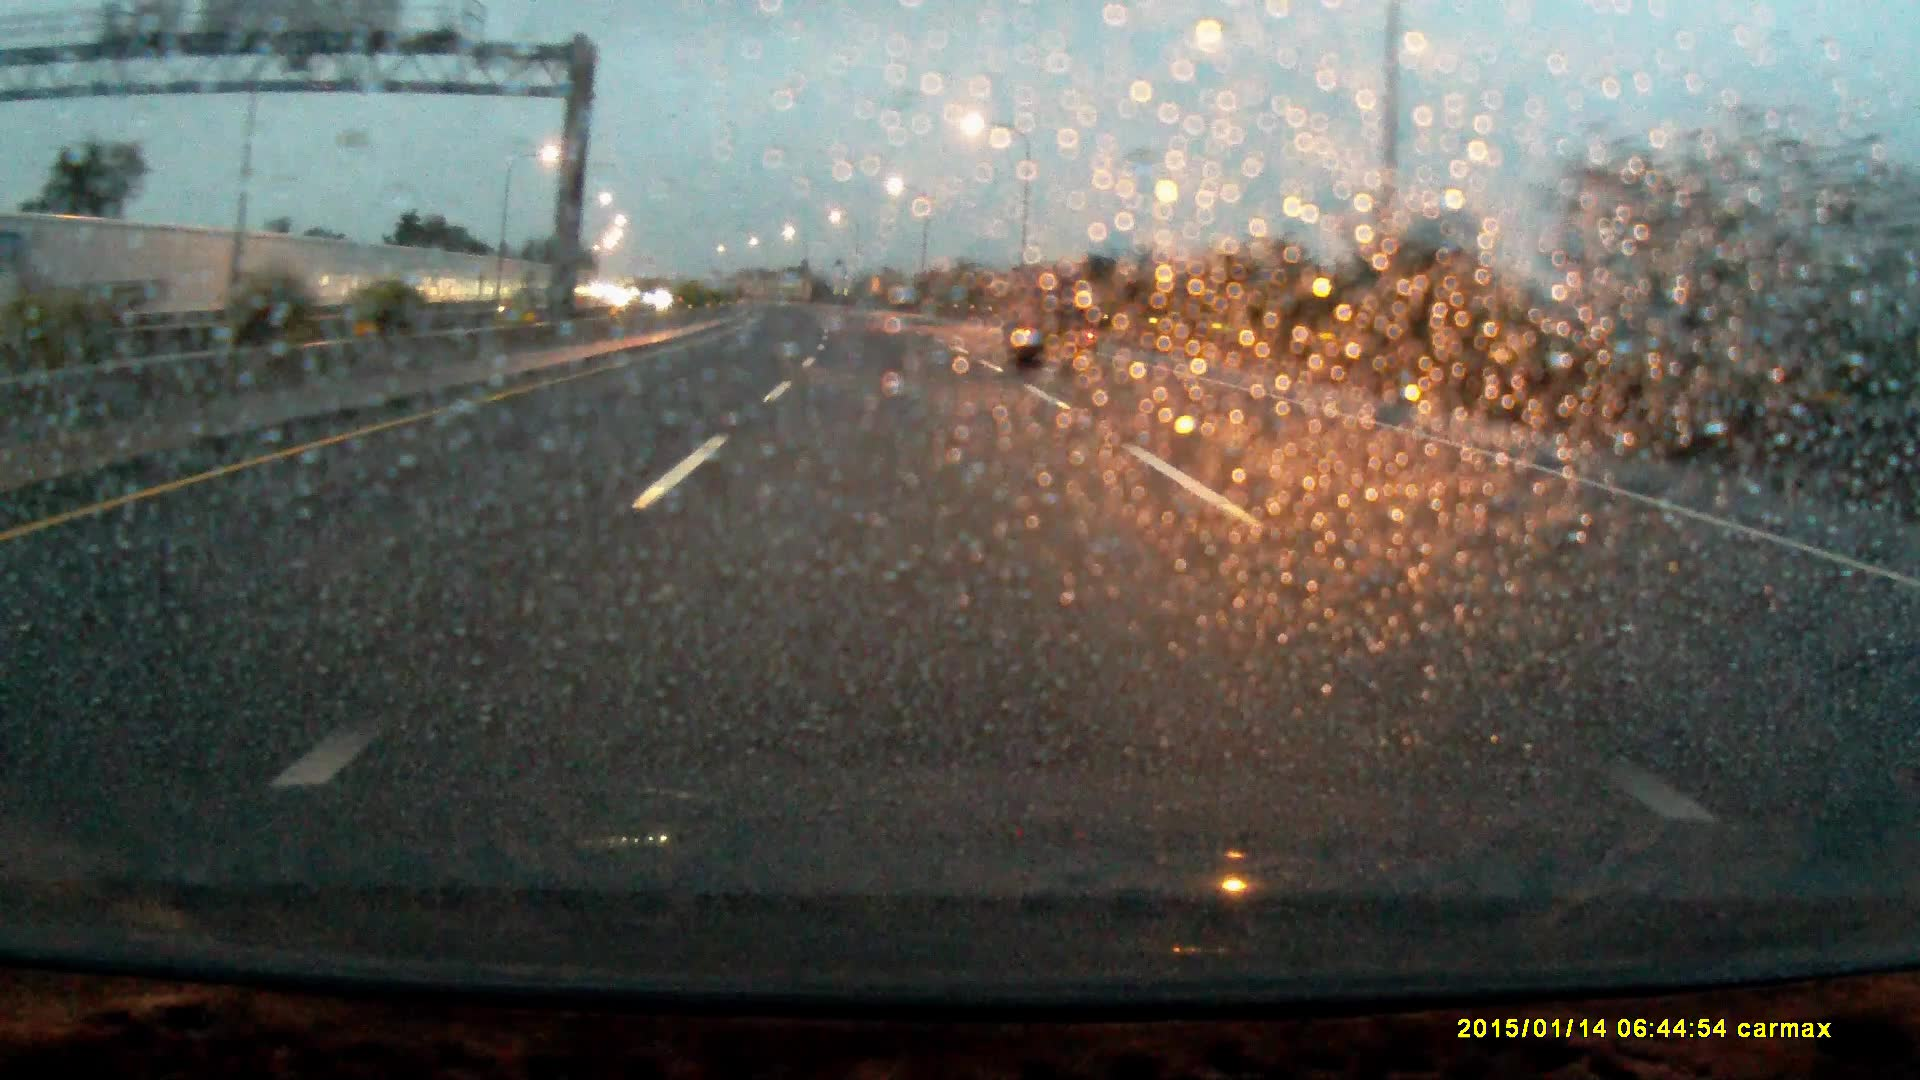vehicle: (12, 214, 185, 326), (1007, 276, 1097, 368)
